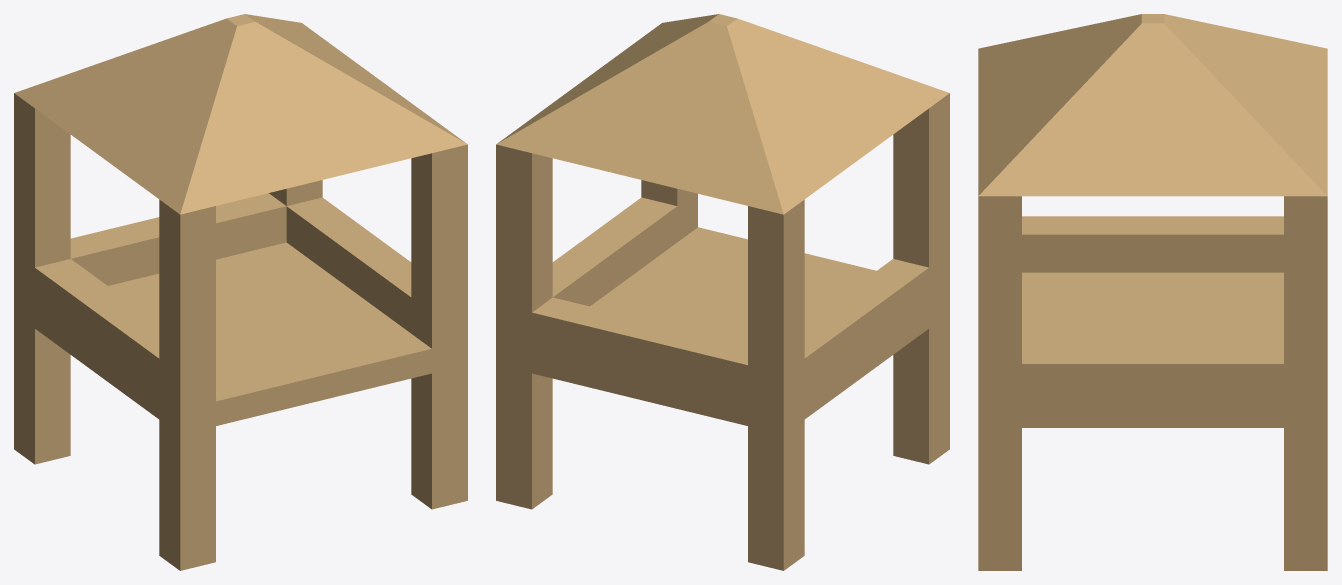
Rendered from Pos.fbx.
The picture shows the model from 3 angles, left to right: view 1: azimuth 30°, elevation 25°; view 2: azimuth 150°, elevation 25°; view 3: azimuth 270°, elevation 25°; orthographic projection. The views are drawn at different scales.
Visible parts, largest first — view 1: Cube.008, Cube.009; view 2: Cube.008, Cube.009; view 3: Cube.008, Cube.009.
Part boxes in pixels (bbox=[...]): Cube.008: bbox=[14, 93, 467, 570]; Cube.009: bbox=[14, 14, 467, 214]; Cube.008: bbox=[496, 93, 949, 570]; Cube.009: bbox=[496, 14, 949, 214]; Cube.008: bbox=[978, 196, 1327, 570]; Cube.009: bbox=[978, 14, 1327, 196].
Bounding box in the file's own units: 200 × 302 × 200.
